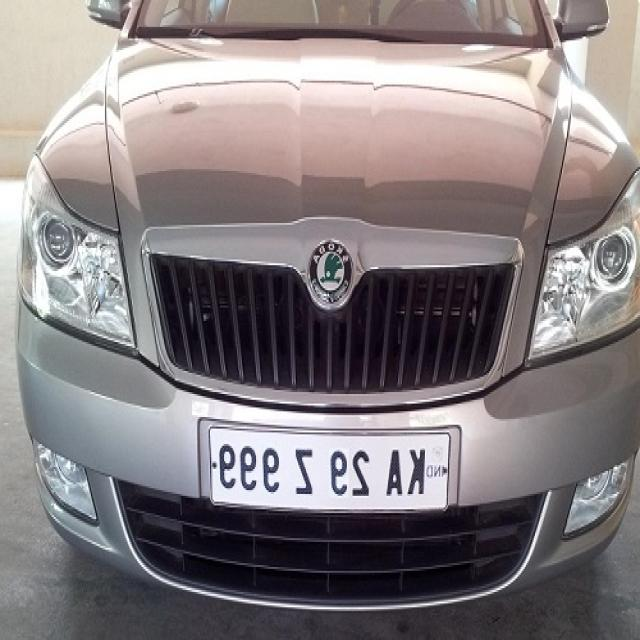number-plate: (200, 416, 463, 518)
